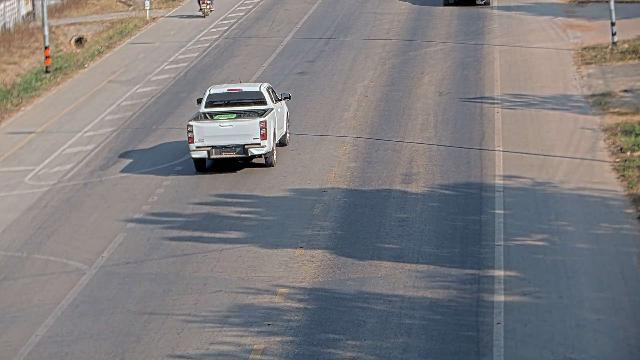pickup-truck: (186, 80, 291, 171)
